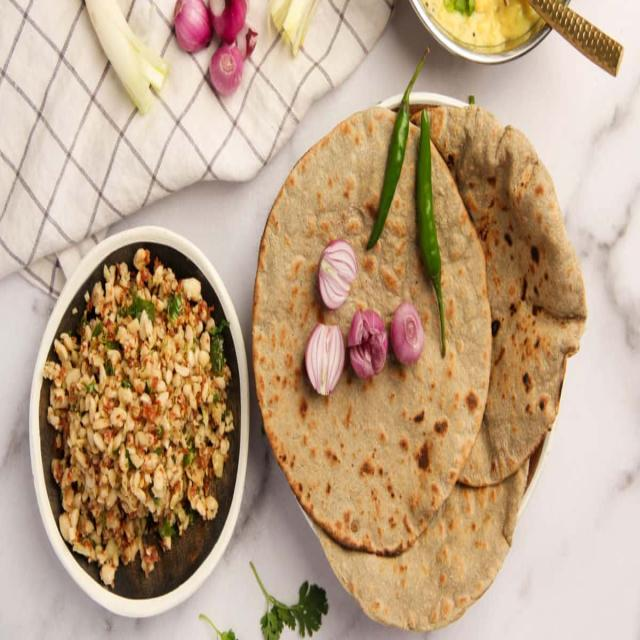ROTI: (253, 111, 492, 558), (418, 102, 591, 491), (316, 460, 528, 633)
